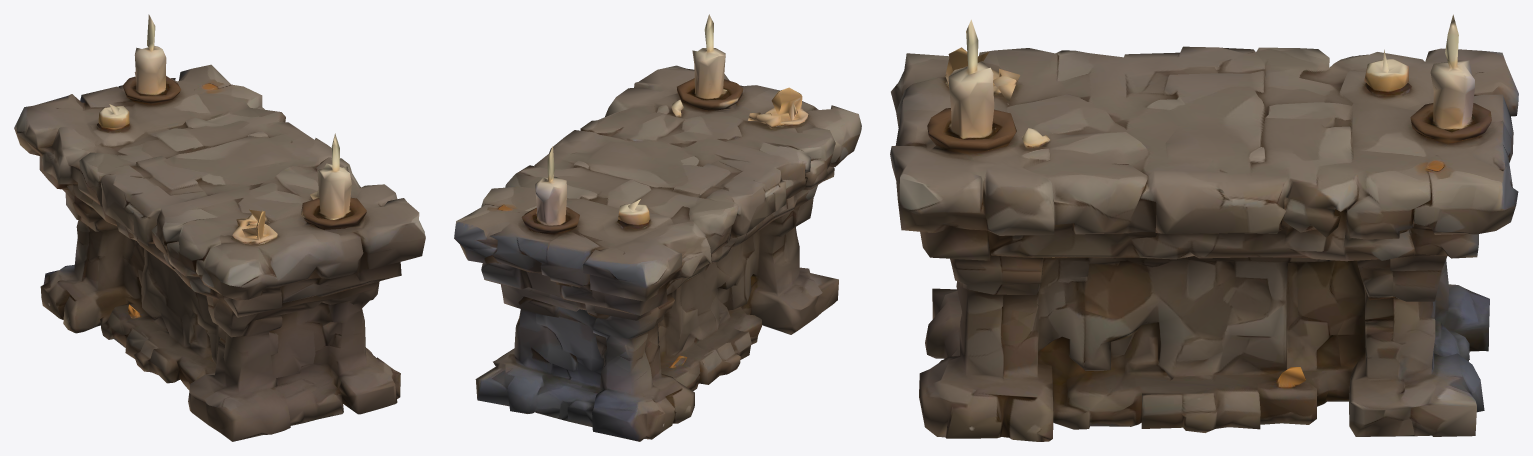
Rendered from altar.glb.
3 renders of one model, left to right at view 1: azimuth 30°, elevation 25°; view 2: azimuth 150°, elevation 25°; view 3: azimuth 270°, elevation 25°, orthographic. The views are drawn at different scales.
Parts seen in each view (by area): view 1: tripo_node_63d08bce-2ef6-424e-9a1b-80919c543086; view 2: tripo_node_63d08bce-2ef6-424e-9a1b-80919c543086; view 3: tripo_node_63d08bce-2ef6-424e-9a1b-80919c543086.
Boxes of the visible parts, x1,y1,x2,y2 form: tripo_node_63d08bce-2ef6-424e-9a1b-80919c543086: (14, 14, 425, 441); tripo_node_63d08bce-2ef6-424e-9a1b-80919c543086: (454, 14, 861, 441); tripo_node_63d08bce-2ef6-424e-9a1b-80919c543086: (890, 14, 1518, 441).
Size of the model in its own units: 0.5586 by 0.675 by 1.
1 material, 1 textured.
